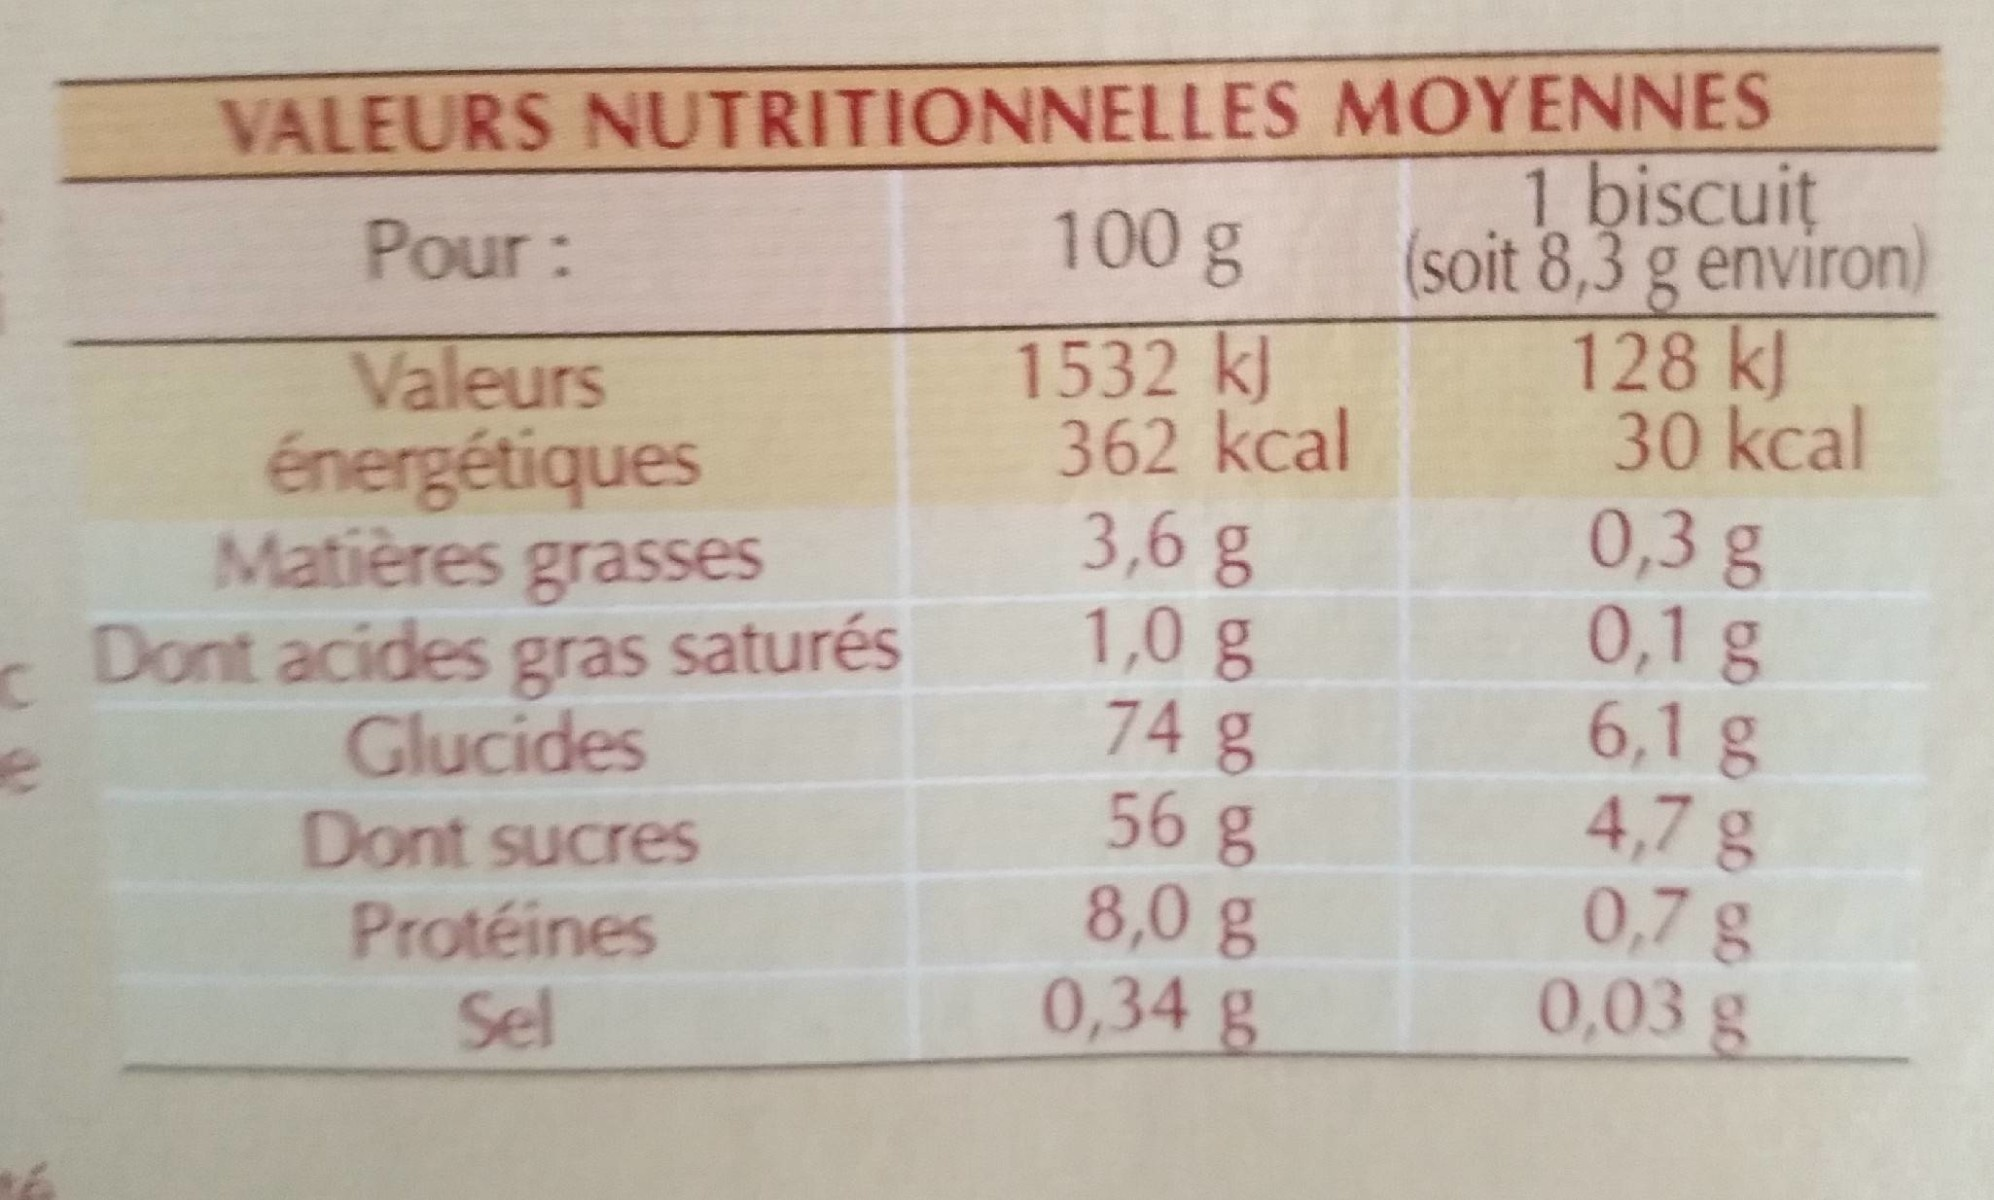column: (83, 182, 897, 1056), (1416, 162, 1924, 1049), (1006, 172, 1356, 1049)
table: (54, 41, 1940, 1078)
